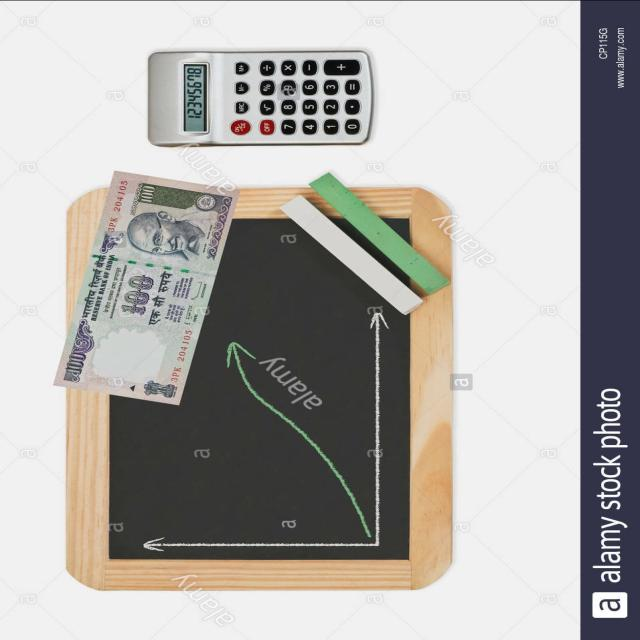100IndianRupees: (54, 171, 242, 408)
